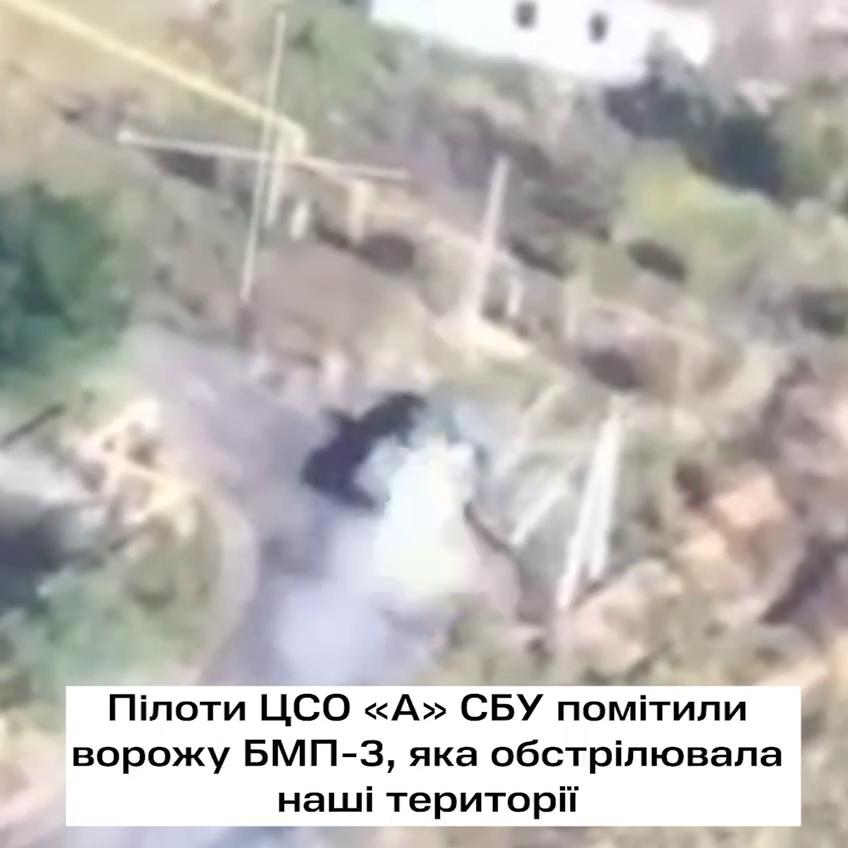tank: (342, 381, 520, 530)
